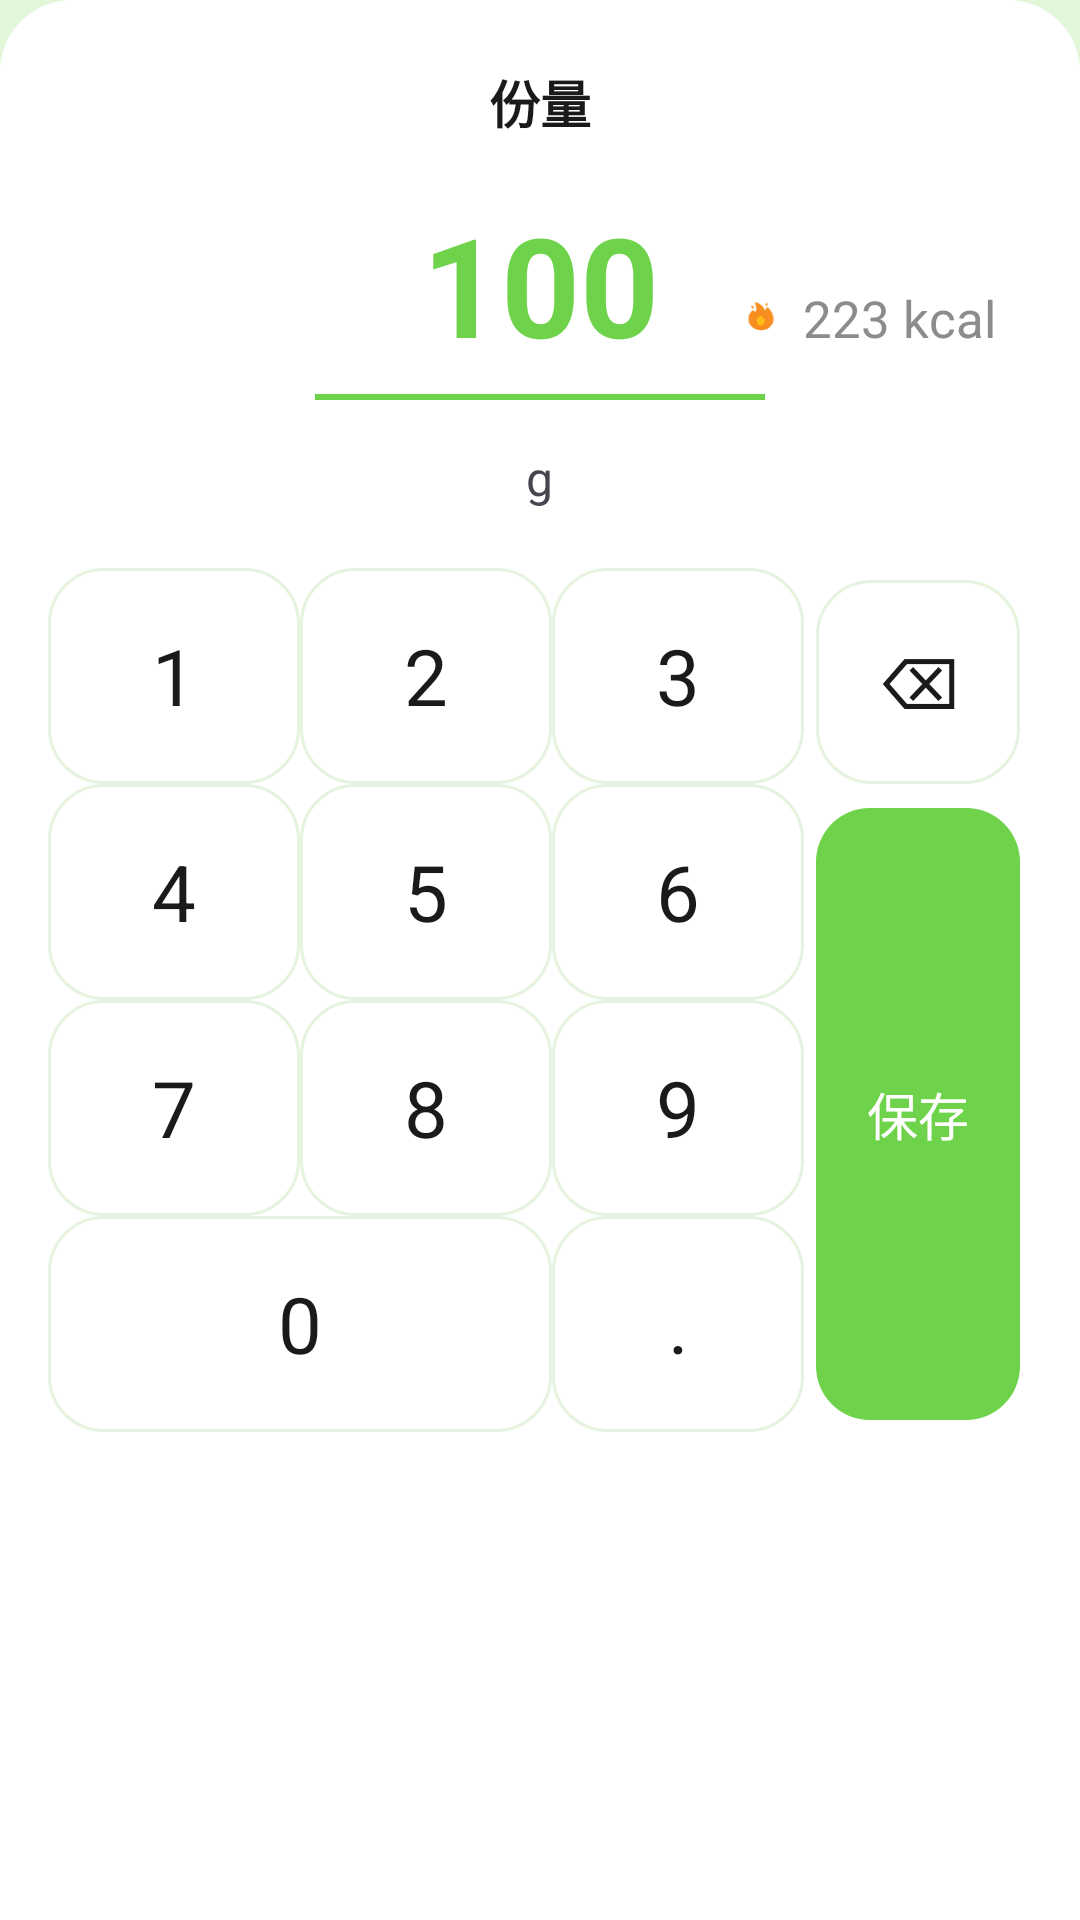

Named icons in this screenshot (1080px×1920px) and their centers, point (x, y):
flame: point (761, 316)
